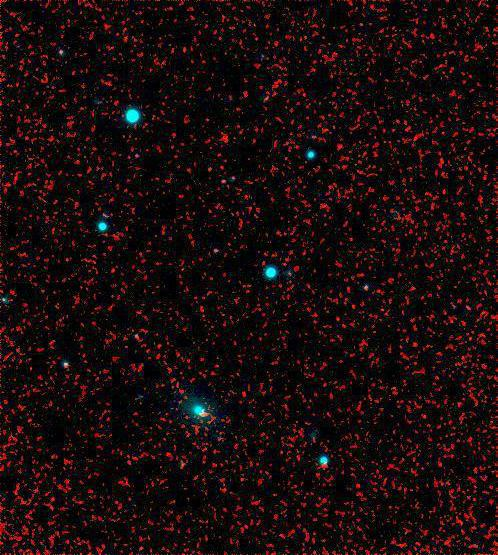star: (211, 124, 241, 154)
